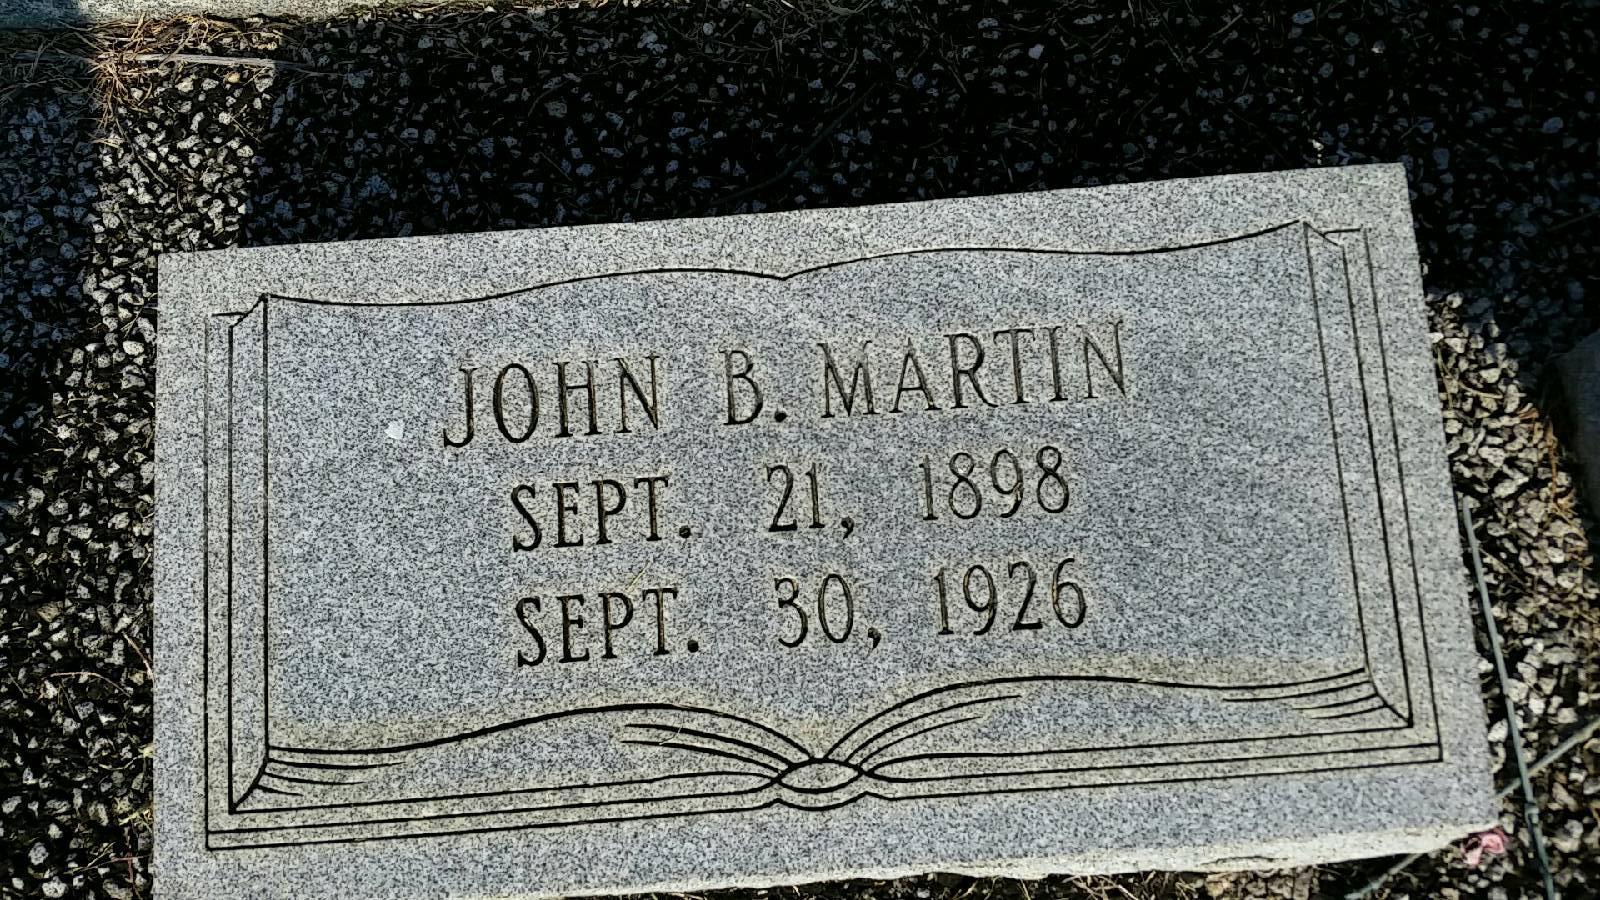flat: (121, 173, 1527, 898)
